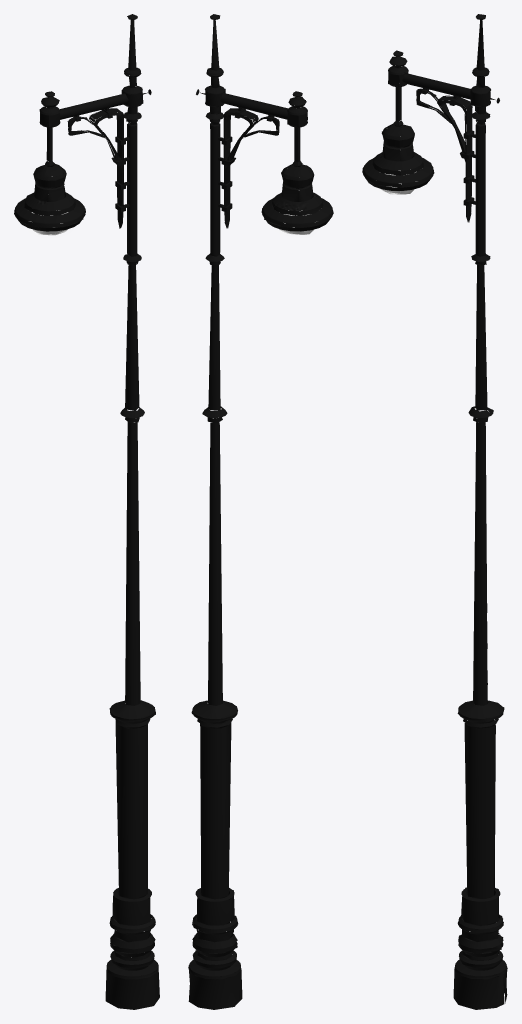
The model's file is farola.glb.
3 views of the same model, side by side, from view 1: azimuth 30°, elevation 25°; view 2: azimuth 150°, elevation 25°; view 3: azimuth 330°, elevation 25° (orthographic).
Parts seen in each view (by area): view 1: farola; view 2: farola; view 3: farola.
Boxes of the visible parts, x1=… form: farola: x1=14, y1=14, x2=159, y2=1009; farola: x1=188, y1=14, x2=333, y2=1009; farola: x1=362, y1=14, x2=507, y2=1009.
Bounding box in the file's own units: 0.7336 × 5 × 0.3292.
2 materials, 1 textured.
